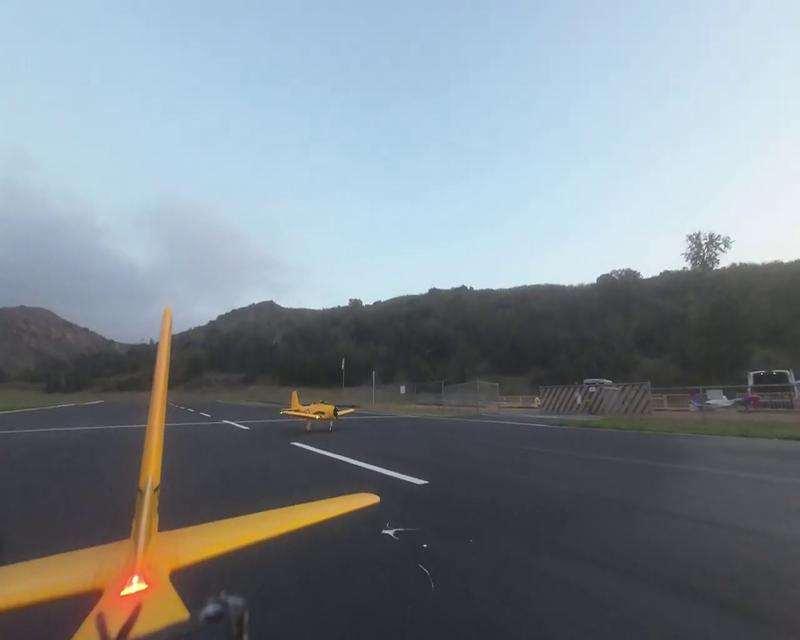UAV: (281, 391, 355, 433)
